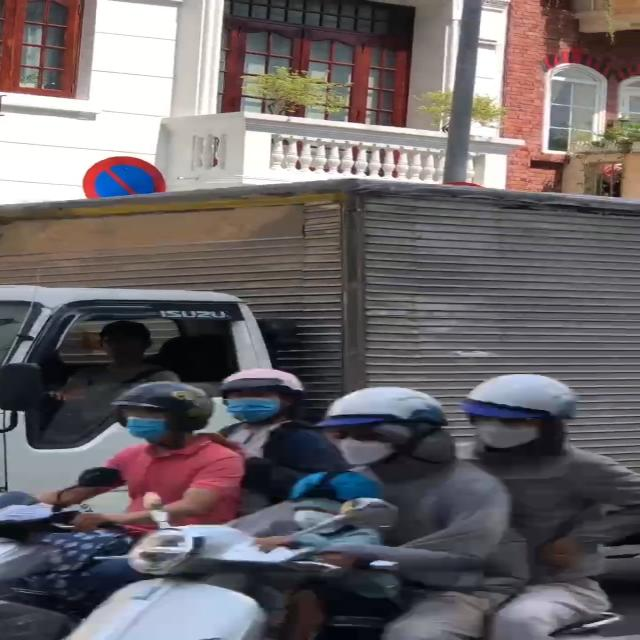Bien bao cam do xe: (79, 151, 169, 199)
